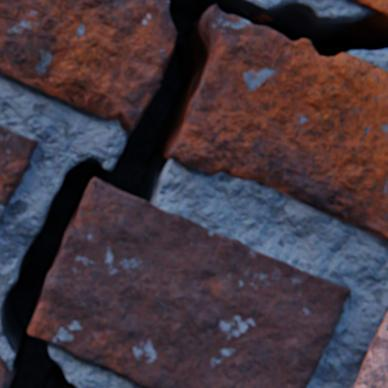brick: (27, 177, 349, 387), (0, 126, 37, 220), (352, 310, 387, 387), (347, 0, 387, 18)
broken_brick: (169, 6, 387, 241), (0, 0, 175, 131), (0, 355, 11, 387), (257, 14, 270, 21)
crack: (0, 0, 387, 387)
